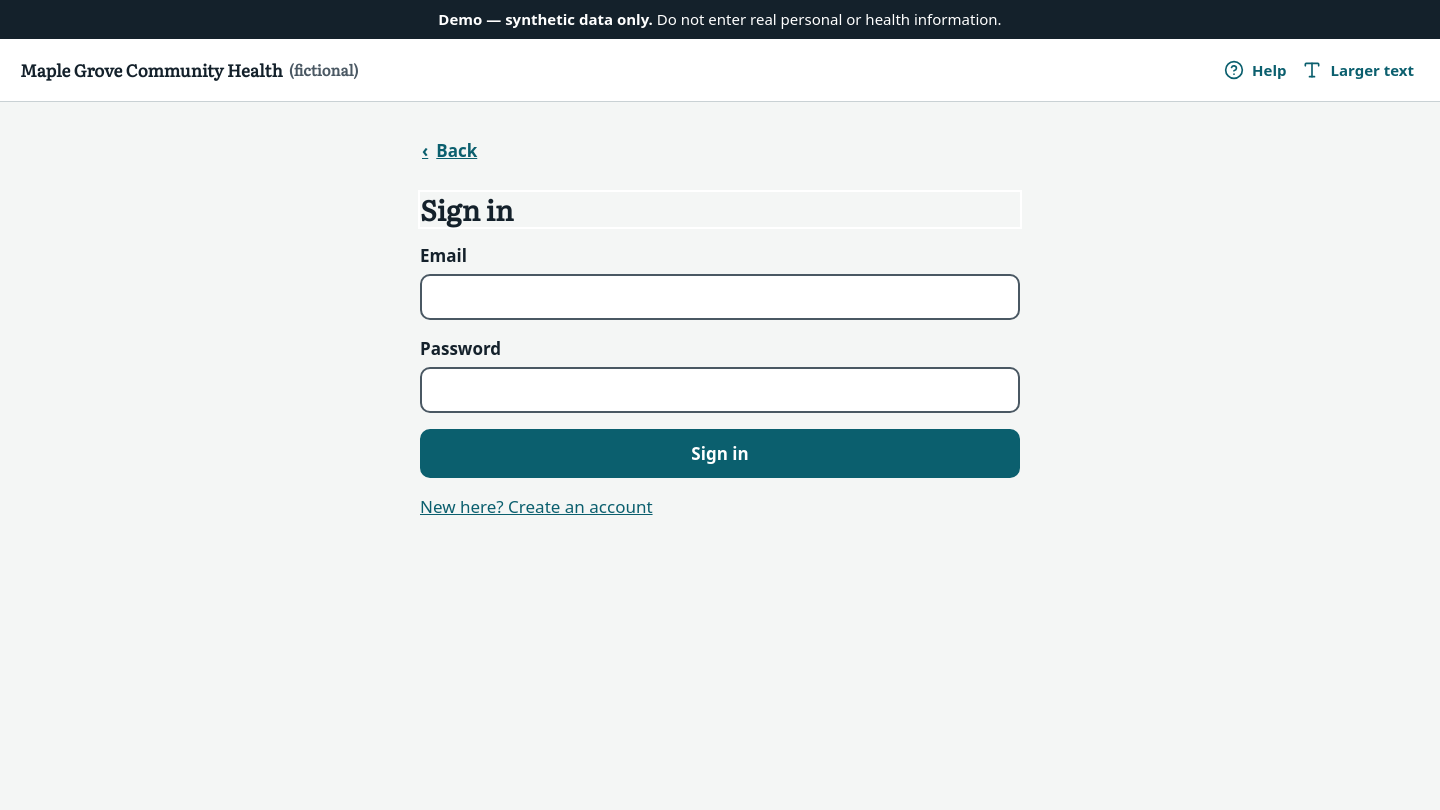
Test: sign in shows the server's message on failure
This screenshot has width=1440, height=810.
Step 1. Type "pat@example.com" into the field labelled "Email" → (720, 297), box [420, 274, 1020, 320]
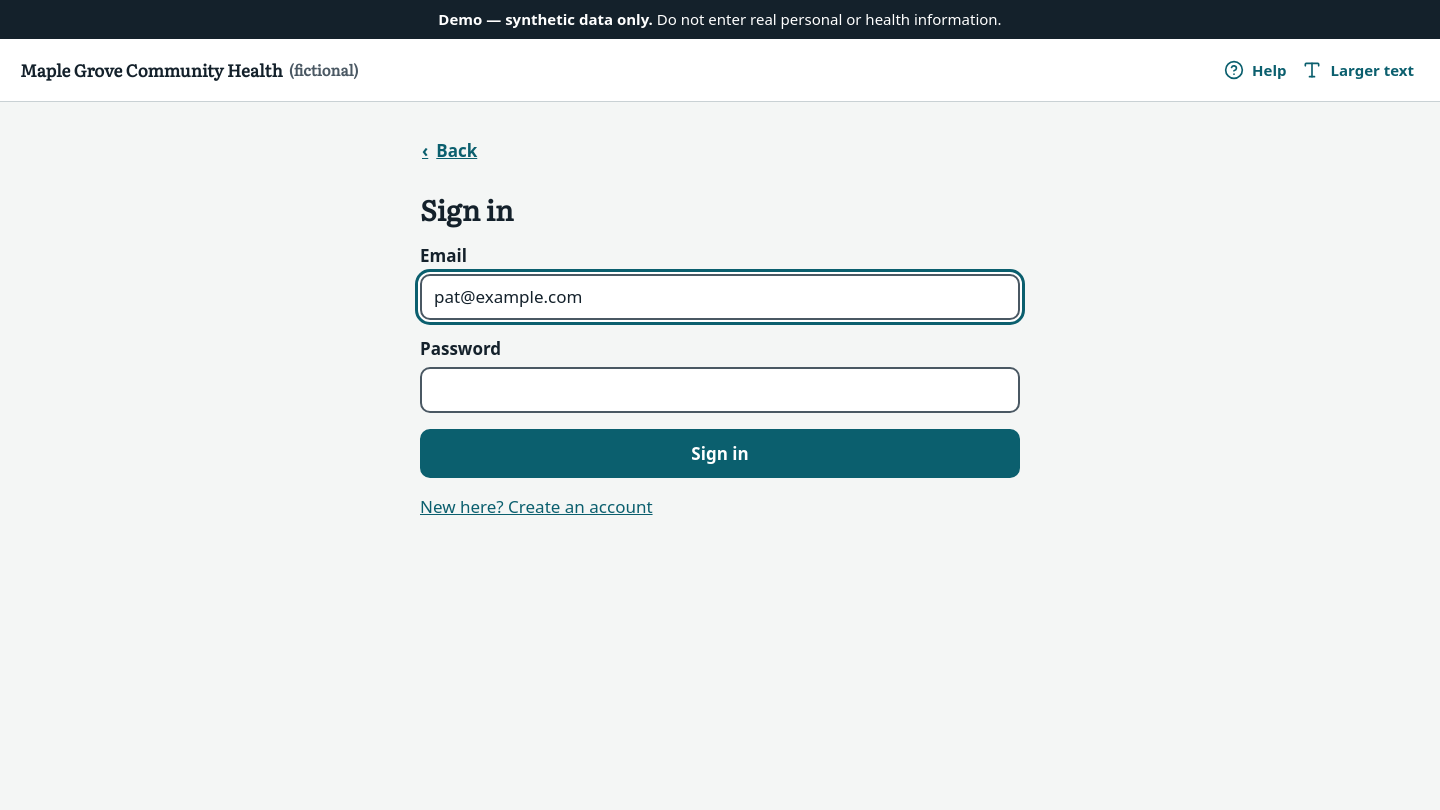
Step 2. Type "wrong" into the password field labelled "Password" → (720, 390), box [420, 367, 1020, 412]
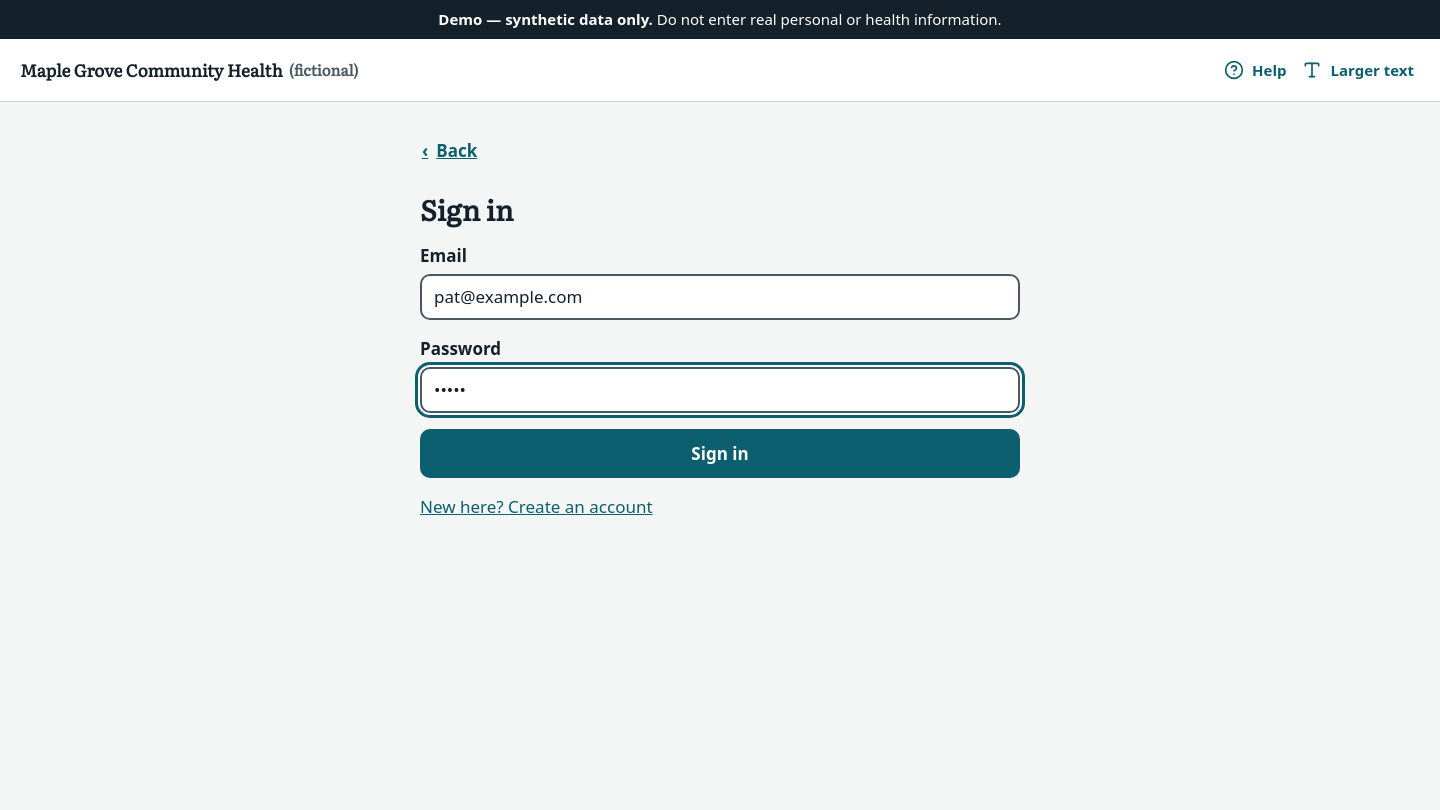
Step 3. Click the button "Sign in" → (720, 453), box [420, 428, 1020, 478]
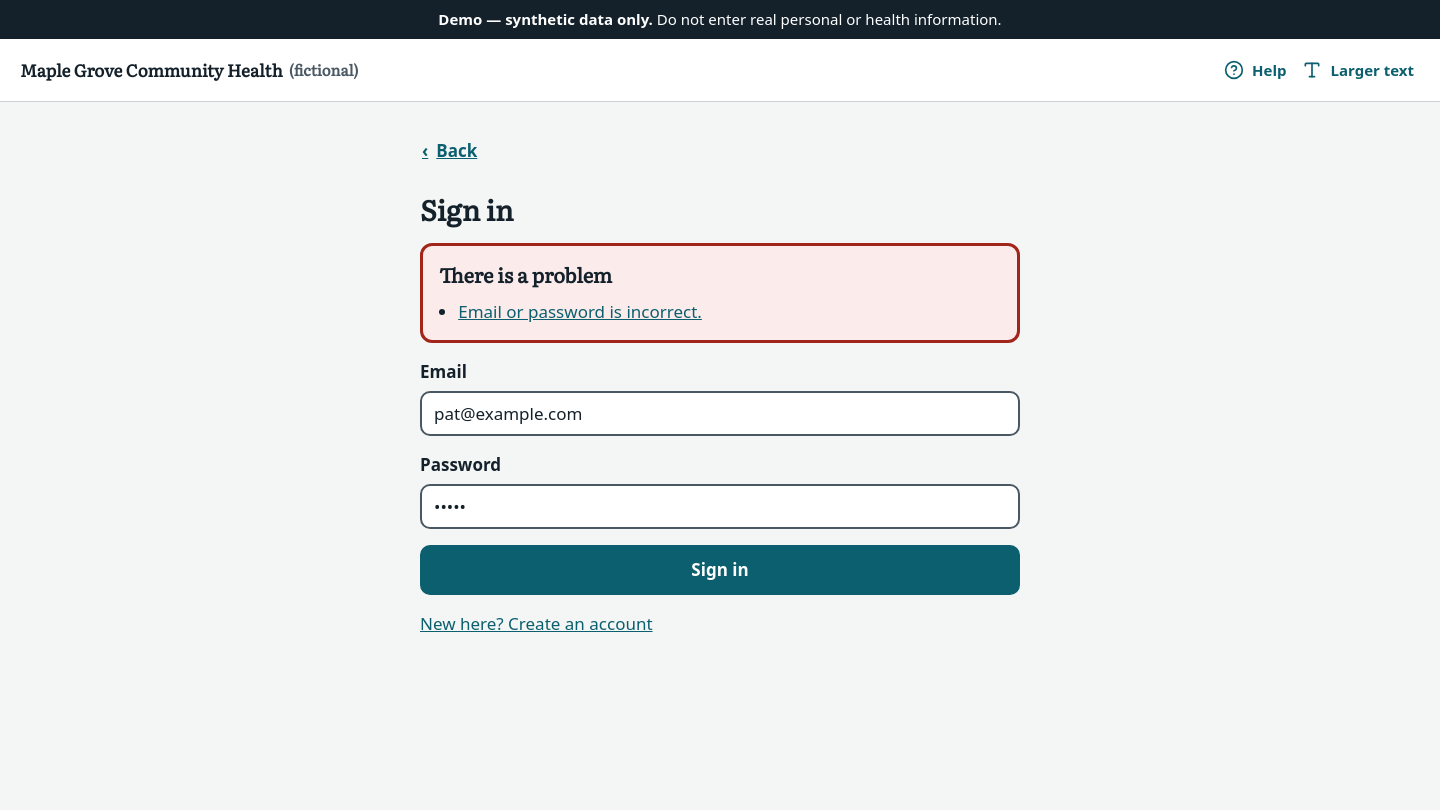
Expected: the message shows "Email or password is incorrect.", [458, 300, 702, 322]
